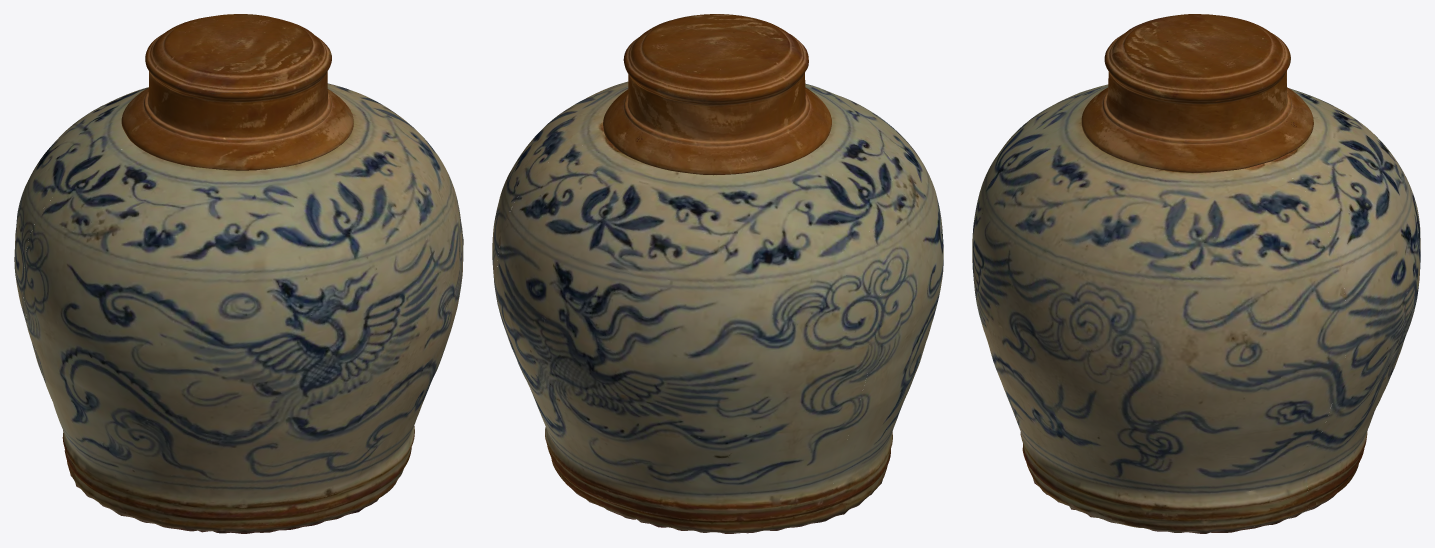
Rendered from jar.glb.
The picture shows the model from 3 angles, left to right: view 1: azimuth 30°, elevation 25°; view 2: azimuth 150°, elevation 25°; view 3: azimuth 270°, elevation 25°; orthographic projection.
Parts seen in each view (by area): view 1: Object_6, Object_4; view 2: Object_6, Object_4; view 3: Object_6, Object_4.
Boxes of the visible parts, box(x1,y1,x2,y2) form: Object_6: box(14, 83, 463, 533); Object_4: box(121, 14, 353, 170); Object_6: box(492, 81, 943, 533); Object_4: box(603, 14, 831, 175); Object_6: box(972, 84, 1420, 533); Object_4: box(1081, 14, 1313, 172).
Bounding box in the file's own units: 0.2222 × 0.23 × 0.2204.
3 materials, 2 textured.
